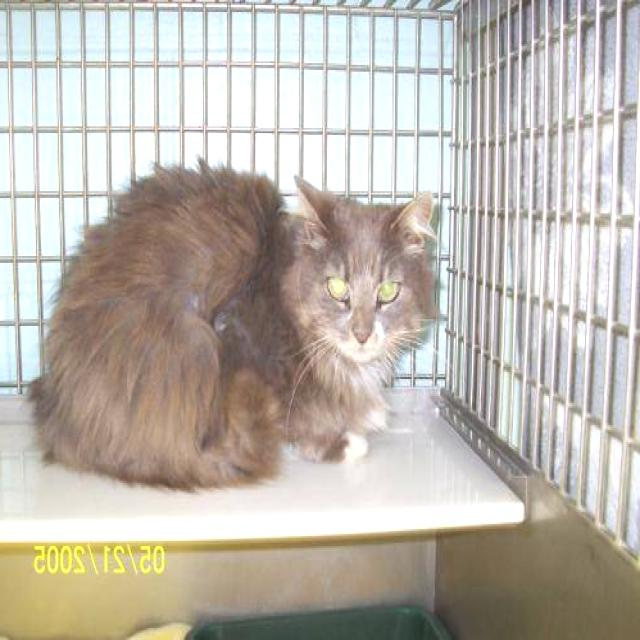Kucing: (17, 76, 474, 542)
